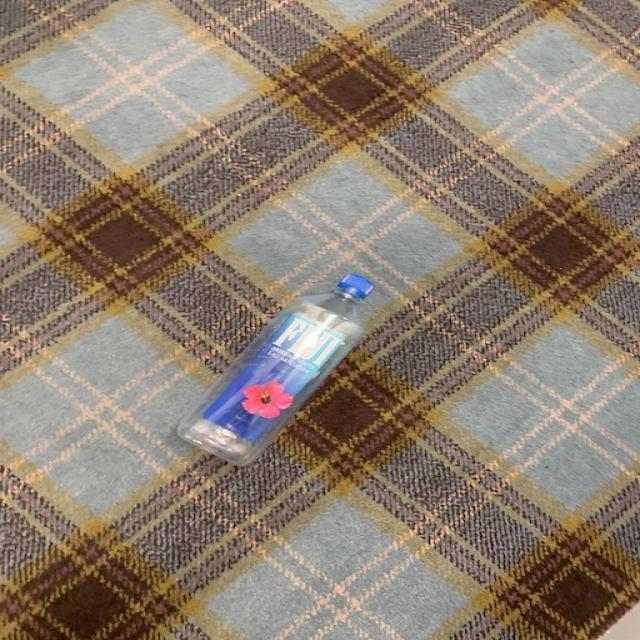bottle: (177, 273, 375, 467)
